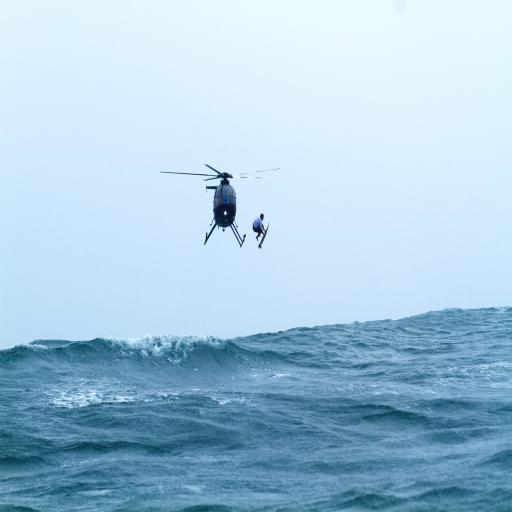helicopter: (160, 154, 286, 258)
